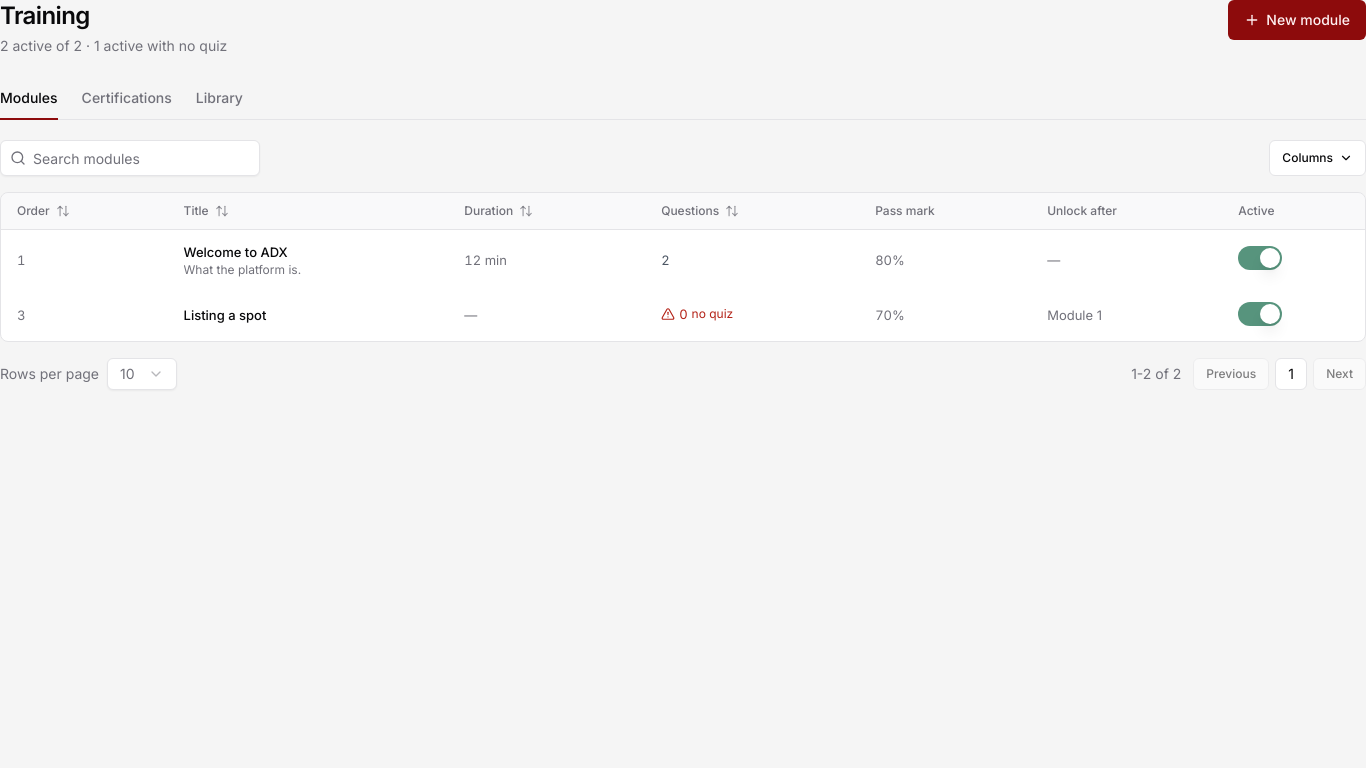
Test: New module › will not send a lock on a later module — the server's own rule, said first
Click the button "New module" at (1297, 20), box [1228,0,1365,40]
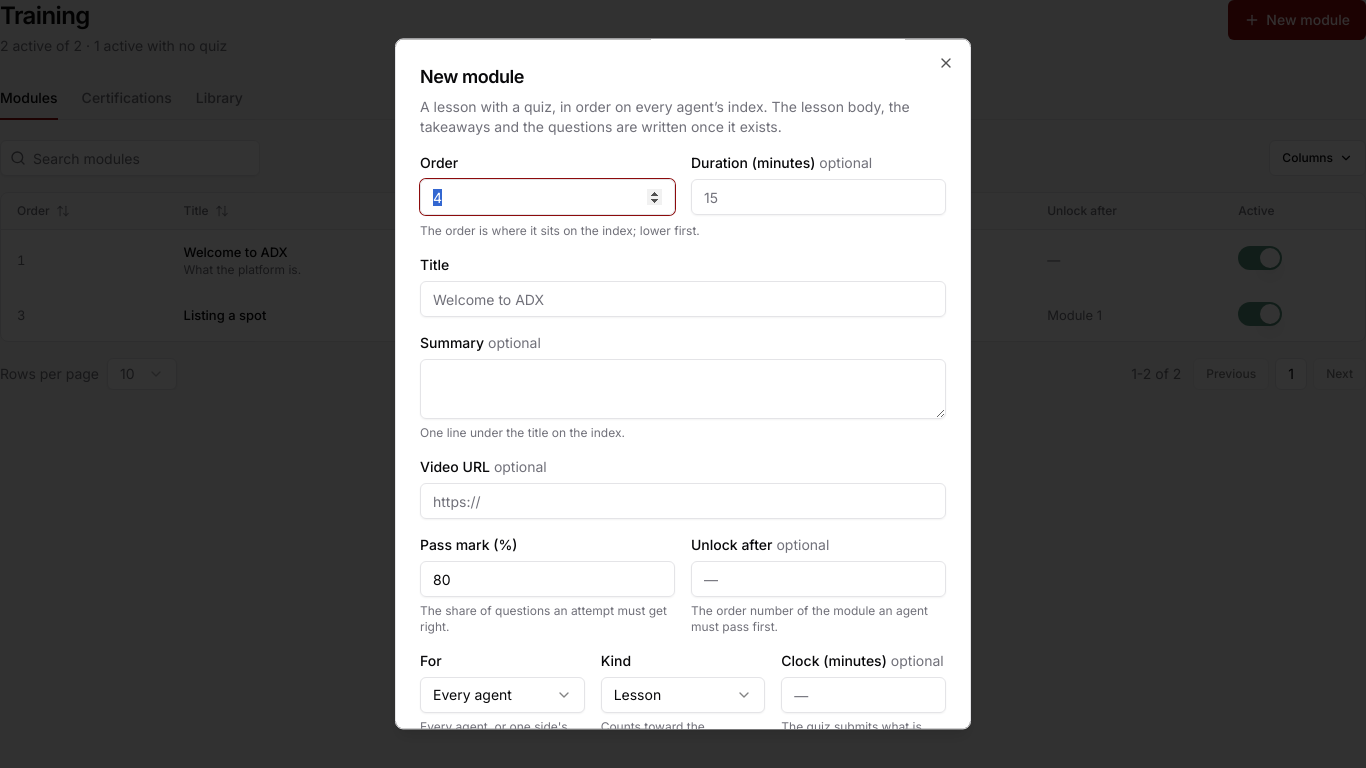
Type "Pricing a wall" into the field labelled "Title" at (683, 299), box [420,281,946,317]
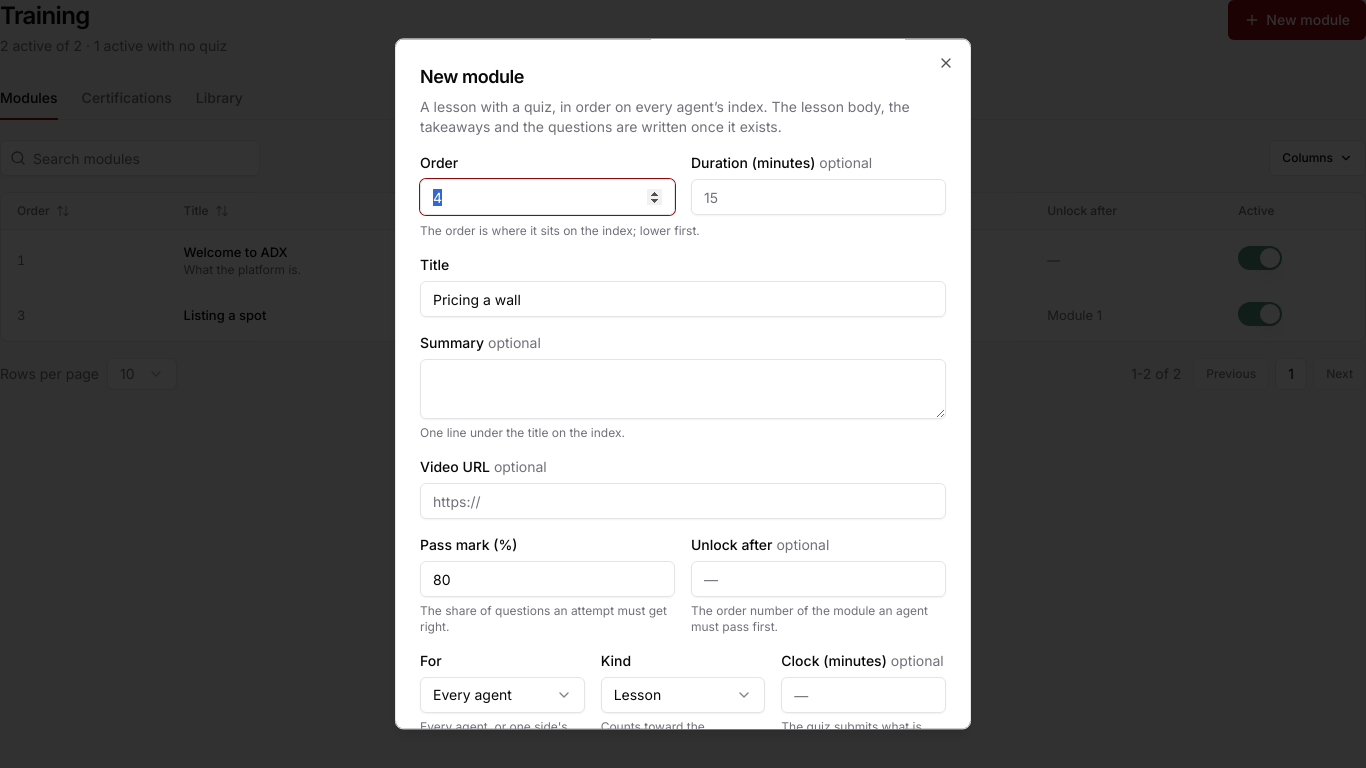
Type "4" into the number field labelled "Unlock after" at (818, 579), box [691,561,946,597]
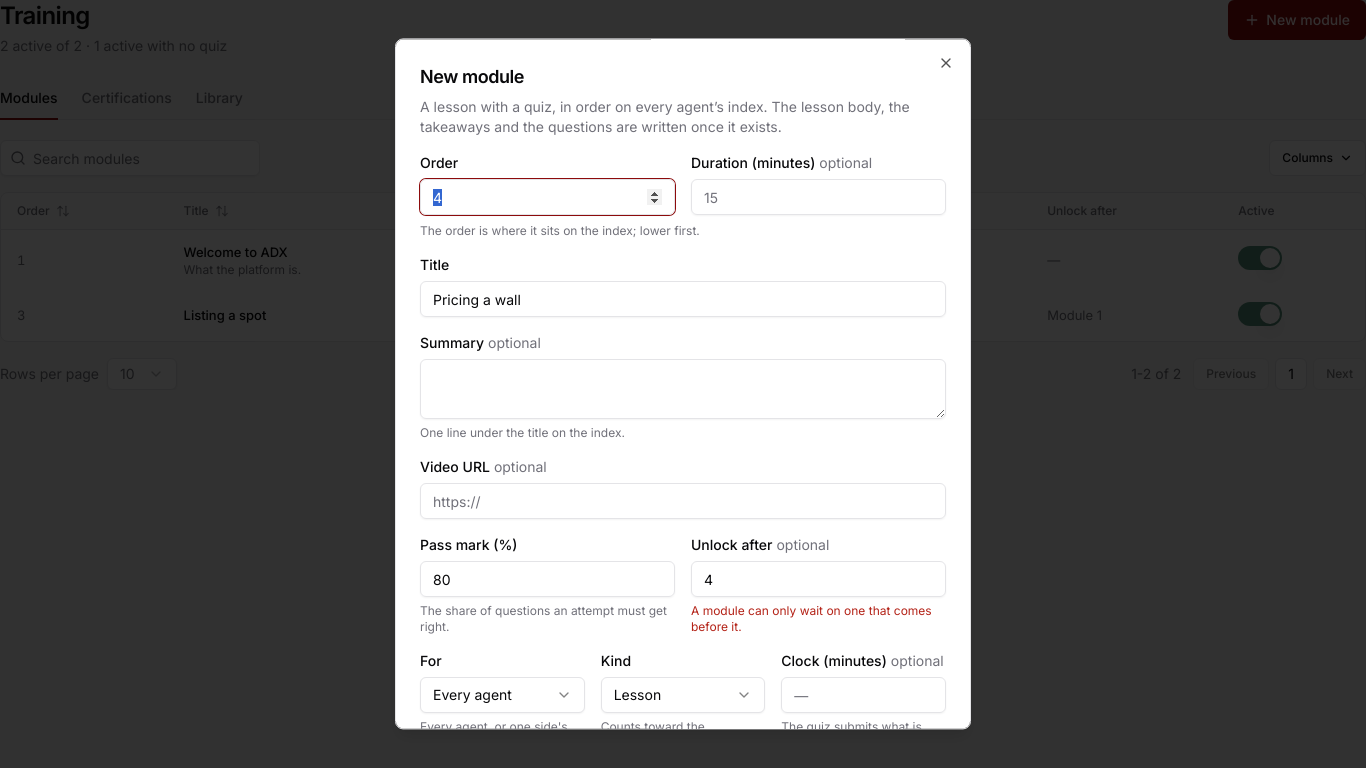
Check: the text "A module can only wait on one that comes before it." is shown, box [691,603,946,635]
